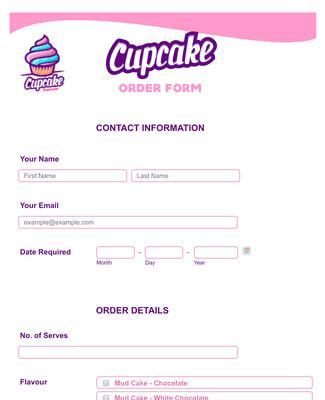checkbox: (103, 380, 112, 389), (102, 395, 112, 400)
input: (19, 347, 239, 361), (19, 216, 238, 230), (131, 169, 240, 184), (19, 170, 128, 184), (195, 246, 240, 259), (145, 246, 185, 260), (98, 247, 137, 260)
label: (21, 245, 74, 259), (114, 380, 191, 388), (21, 330, 70, 342), (17, 200, 64, 210), (21, 154, 62, 164), (114, 396, 216, 400), (19, 378, 50, 388), (193, 260, 208, 268), (97, 262, 115, 268), (145, 262, 158, 266)
